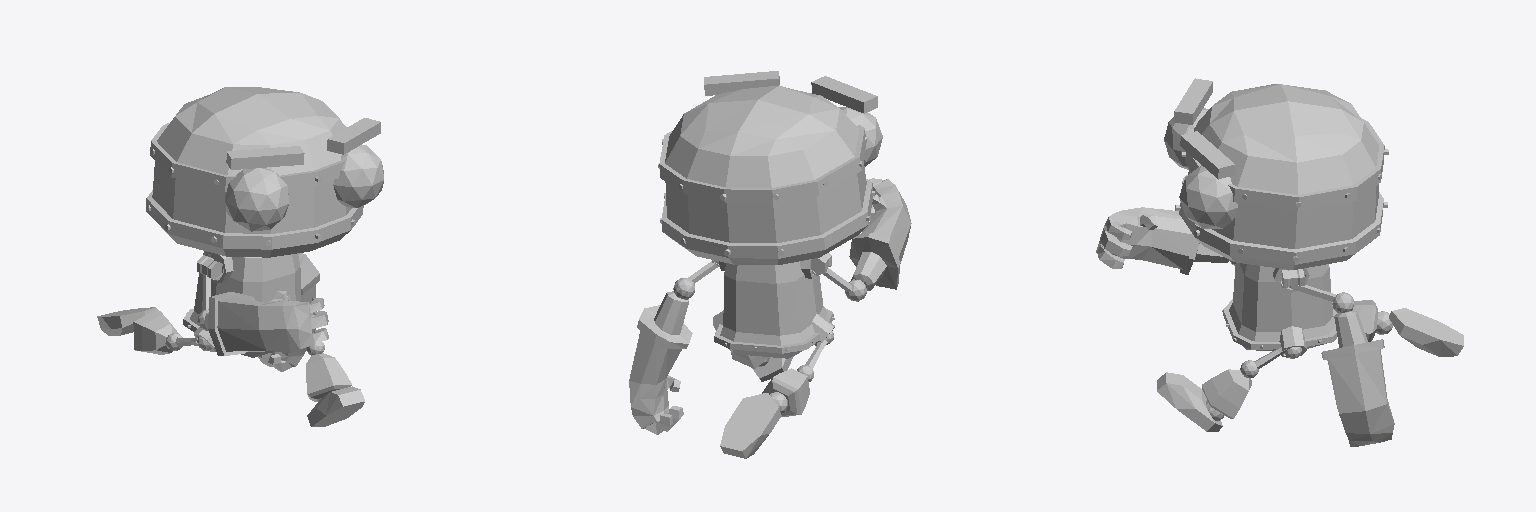
File: Robot_000001.obj
3 renders of one model, left to right at view 1: azimuth 30°, elevation 25°; view 2: azimuth 150°, elevation 25°; view 3: azimuth 270°, elevation 25°, orthographic.
Visible parts, largest first — view 1: Head_Cylinder, Hand.R_Cylinder.015, Torso_Cube.001, LowerLeg.L_Cylinder.012, Foot.L_Cylinder.014, LowerLeg.R_Cylinder.018, Hand.L_Cylinder.022, Foot.R_Cylinder.017; view 2: Head_Cylinder, Torso_Cube.001, Hand.L_Cylinder.022, Hand.R_Cylinder.015, Foot.R_Cylinder.017, LowerLeg.R_Cylinder.018, Arm.L_Cylinder.010, Arm.R_Cylinder.013, Foot.L_Cylinder.014; view 3: Head_Cylinder, Torso_Cube.001, Hand.L_Cylinder.022, Hand.R_Cylinder.015, Foot.R_Cylinder.017, Foot.L_Cylinder.014, LowerLeg.L_Cylinder.012, LowerLeg.R_Cylinder.018, Arm.L_Cylinder.010.
Part boxes in pixels (bbox=[...]): Head_Cylinder: bbox=[146, 87, 383, 257]; Hand.R_Cylinder.015: bbox=[204, 291, 328, 355]; Torso_Cube.001: bbox=[183, 251, 300, 357]; LowerLeg.L_Cylinder.012: bbox=[306, 353, 351, 401]; Foot.L_Cylinder.014: bbox=[307, 386, 364, 426]; LowerLeg.R_Cylinder.018: bbox=[133, 309, 178, 354]; Hand.L_Cylinder.022: bbox=[258, 253, 319, 371]; Foot.R_Cylinder.017: bbox=[97, 307, 156, 335]; Head_Cylinder: bbox=[658, 71, 882, 264]; Torso_Cube.001: bbox=[713, 259, 834, 358]; Hand.L_Cylinder.022: bbox=[629, 291, 692, 434]; Hand.R_Cylinder.015: bbox=[849, 178, 911, 290]; Foot.R_Cylinder.017: bbox=[720, 393, 781, 458]; LowerLeg.R_Cylinder.018: bbox=[762, 368, 809, 416]; Arm.L_Cylinder.010: bbox=[673, 261, 717, 299]; Arm.R_Cylinder.013: bbox=[823, 268, 866, 301]; Foot.L_Cylinder.014: bbox=[752, 356, 793, 381]; Head_Cylinder: bbox=[1164, 78, 1388, 269]; Torso_Cube.001: bbox=[1222, 263, 1337, 358]; Hand.L_Cylinder.022: bbox=[1321, 310, 1394, 446]; Hand.R_Cylinder.015: bbox=[1096, 207, 1228, 274]; Foot.R_Cylinder.017: bbox=[1389, 308, 1463, 356]; Foot.L_Cylinder.014: bbox=[1157, 372, 1222, 431]; LowerLeg.L_Cylinder.012: bbox=[1202, 369, 1251, 421]; LowerLeg.R_Cylinder.018: bbox=[1353, 300, 1393, 341]; Arm.L_Cylinder.010: bbox=[1290, 285, 1353, 312].
Size of the model in its own units: 2.63 by 4.12 by 4.37.